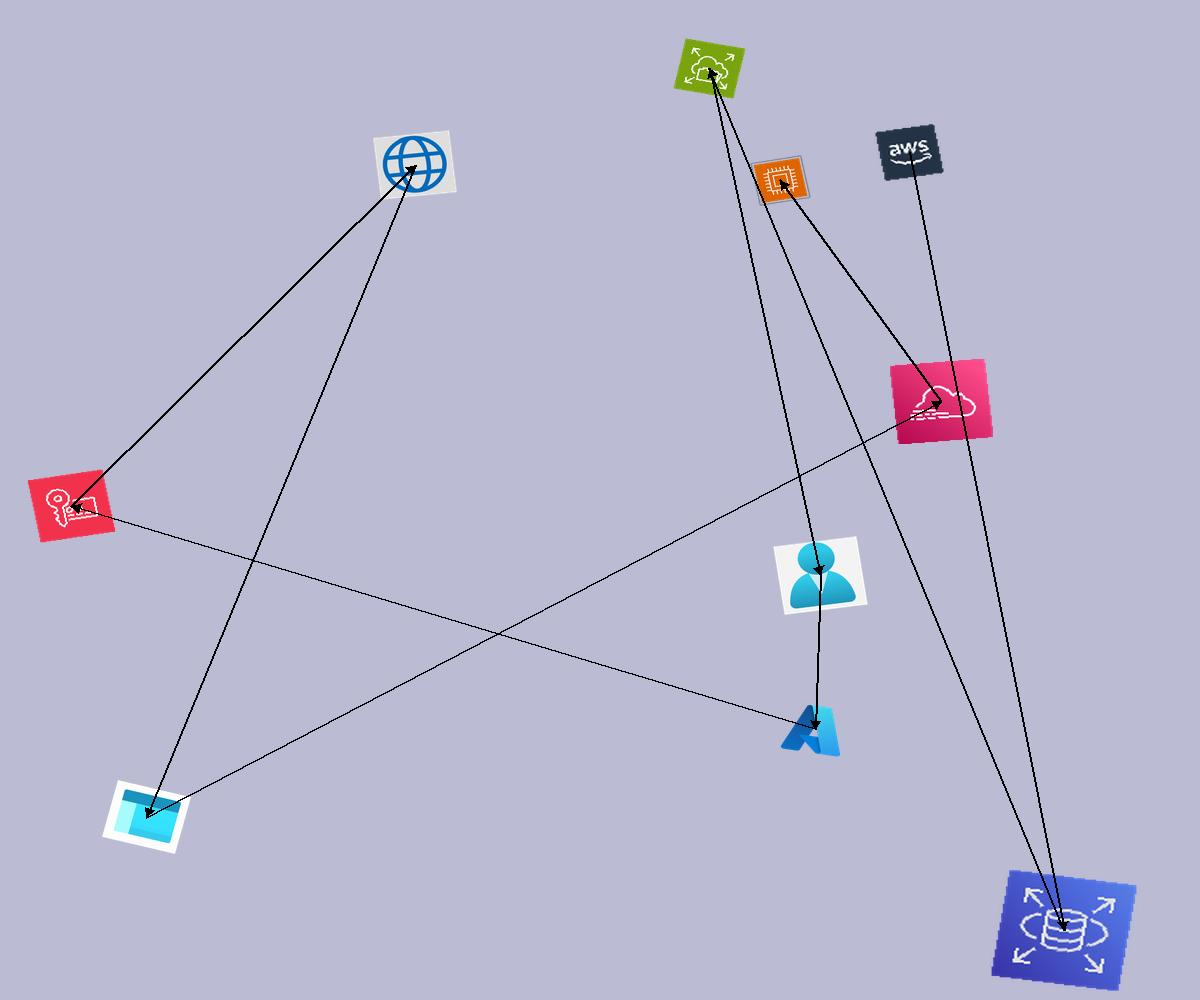AWS-Category_Compute: (750, 155, 811, 206)
AWS-Cloud-logo: (874, 123, 945, 182)
AWS-CloudTrail: (889, 358, 994, 445)
AWS-EFS: (673, 38, 746, 99)
AWS-Key-Management-Service: (27, 469, 116, 543)
AWS-RDS: (990, 869, 1138, 992)
Azure_http: (373, 130, 457, 200)
Azure_management-portal: (102, 780, 191, 854)
Azure_services: (777, 698, 853, 761)
Azure_users: (773, 536, 868, 615)
